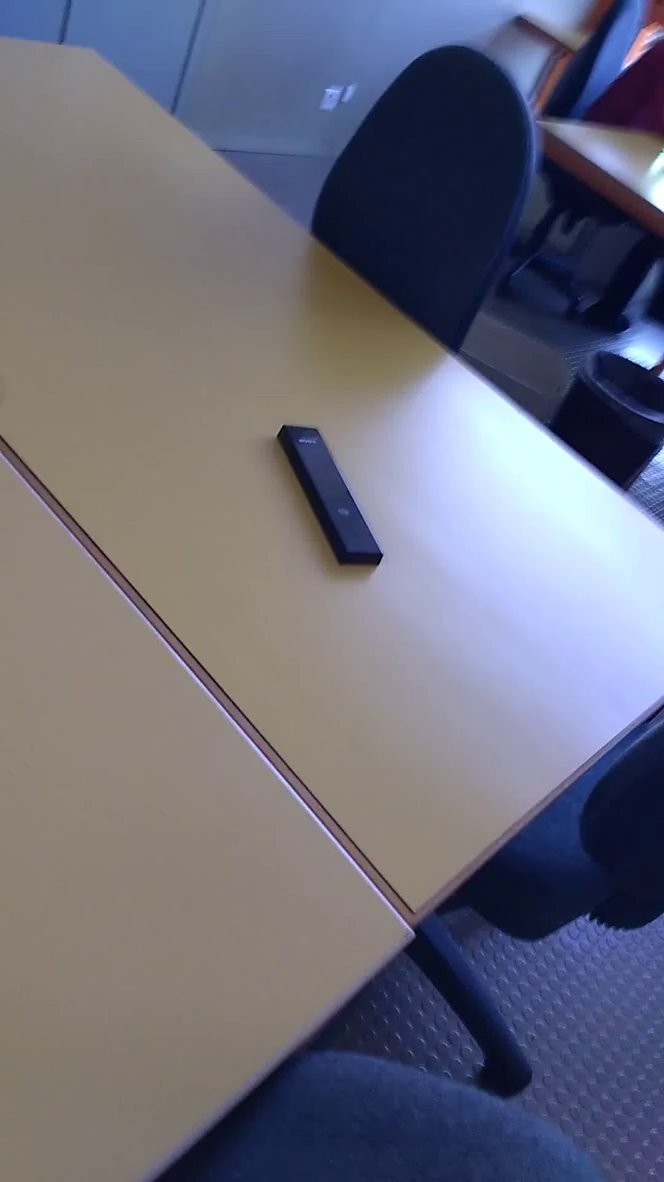chair: (299, 23, 554, 361)
remote: (263, 419, 392, 579)
